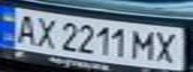1: (109, 25, 130, 58), (93, 25, 112, 56)
2: (54, 19, 81, 53), (75, 21, 96, 55)
A: (9, 11, 42, 45)
M: (130, 27, 160, 61)
X: (151, 28, 184, 64), (30, 15, 60, 49)
